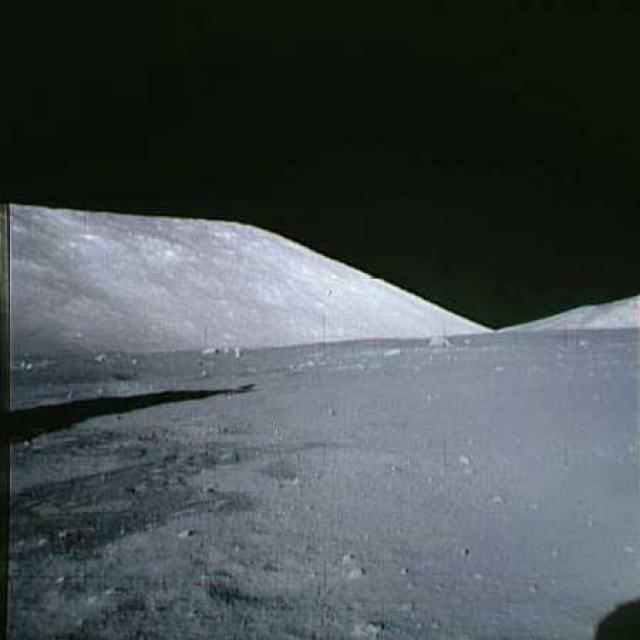crater: (26, 351, 348, 380)
rock: (424, 335, 453, 349), (222, 344, 246, 359), (196, 343, 218, 356)
